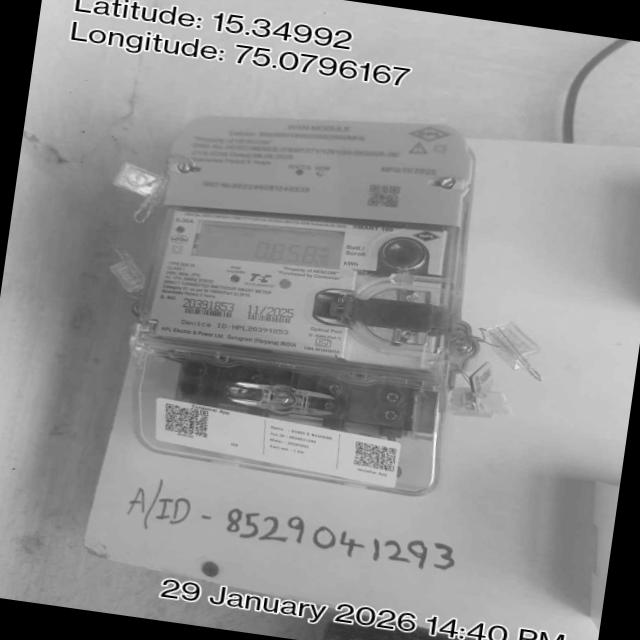meter: (140, 95, 490, 378)
